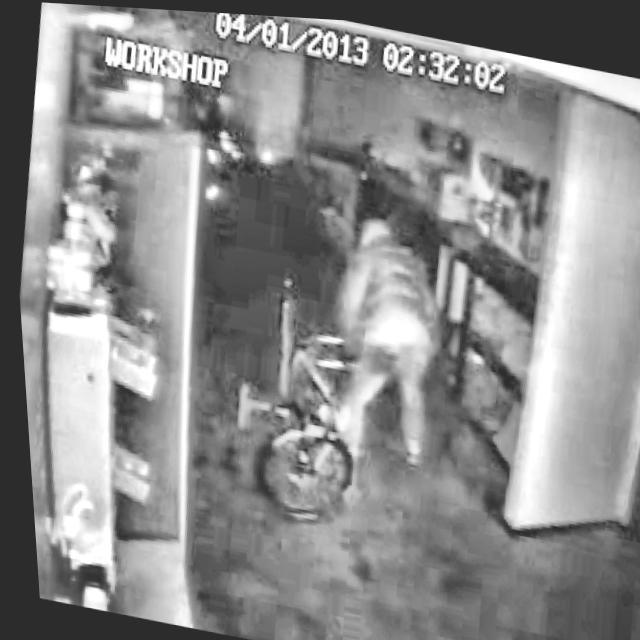burglary: (199, 184, 461, 546)
